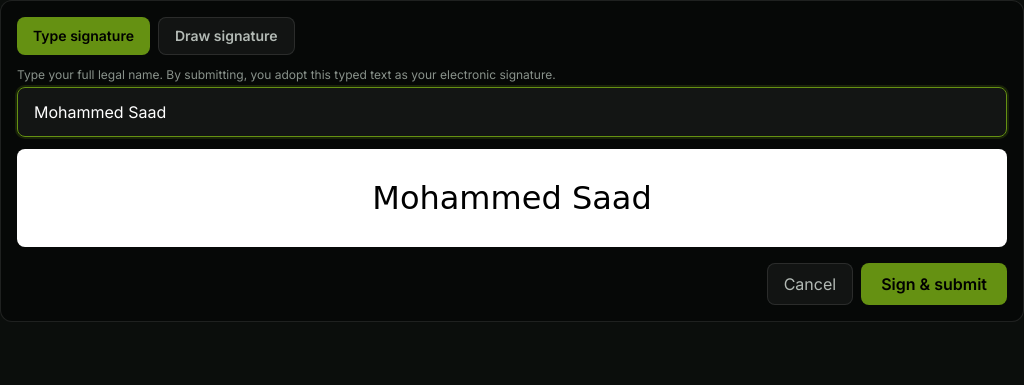
Scenario: SignaturePad › drawn signature tab › Clear button resets the "has drawn" state
Click the button "Draw signature".
click(226, 36)  # box [158,17,294,55]
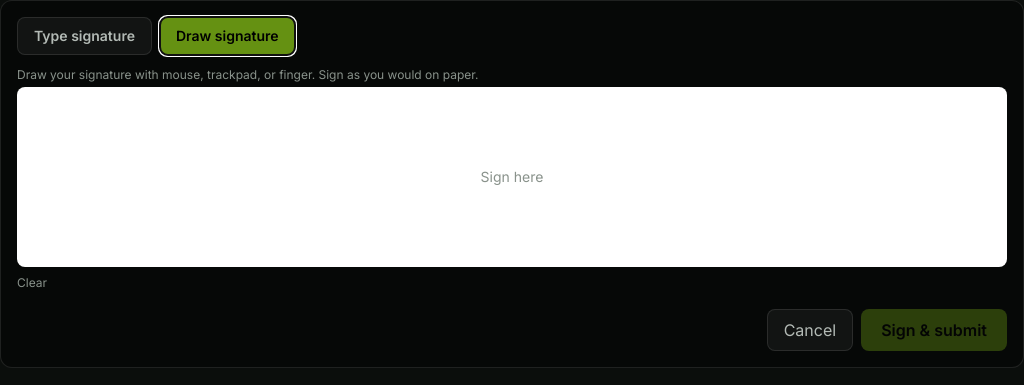
Press the mouse on the drawing at (512, 177), box [18,88,1006,266]
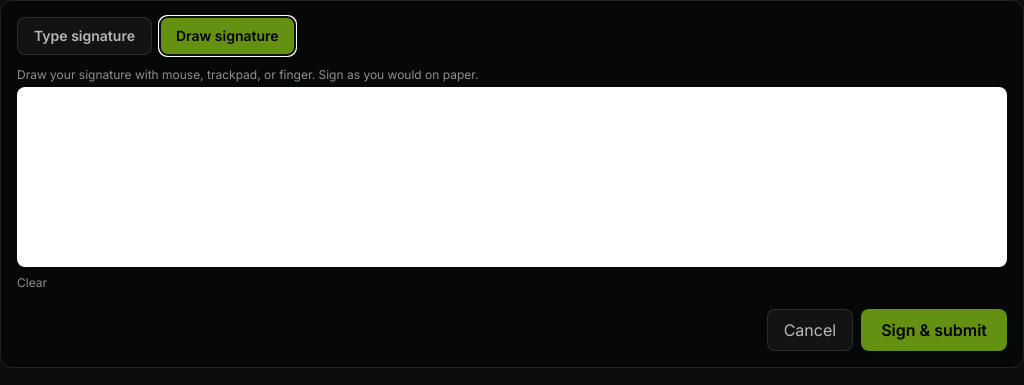
Check: the button "Sign & submit" is enabled, box [861,309,1007,351]
Click the button "Clear".
click(32, 283)  # box [17,275,47,291]
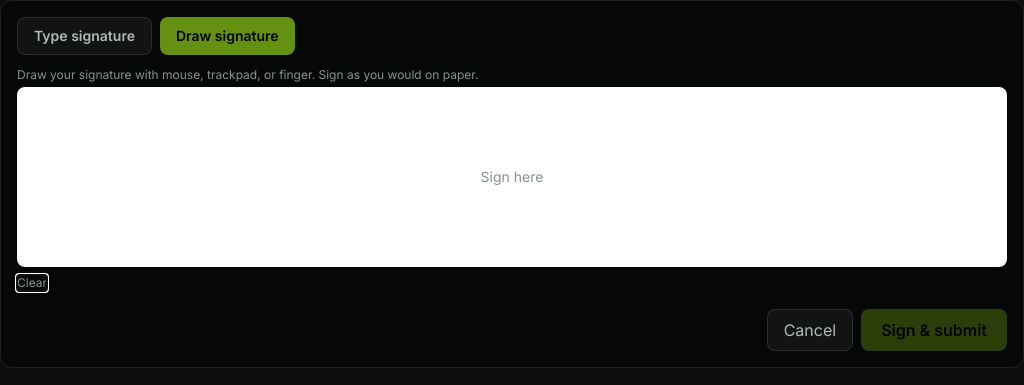
Check: the button "Sign & submit" is disabled, box [861,309,1007,351]
